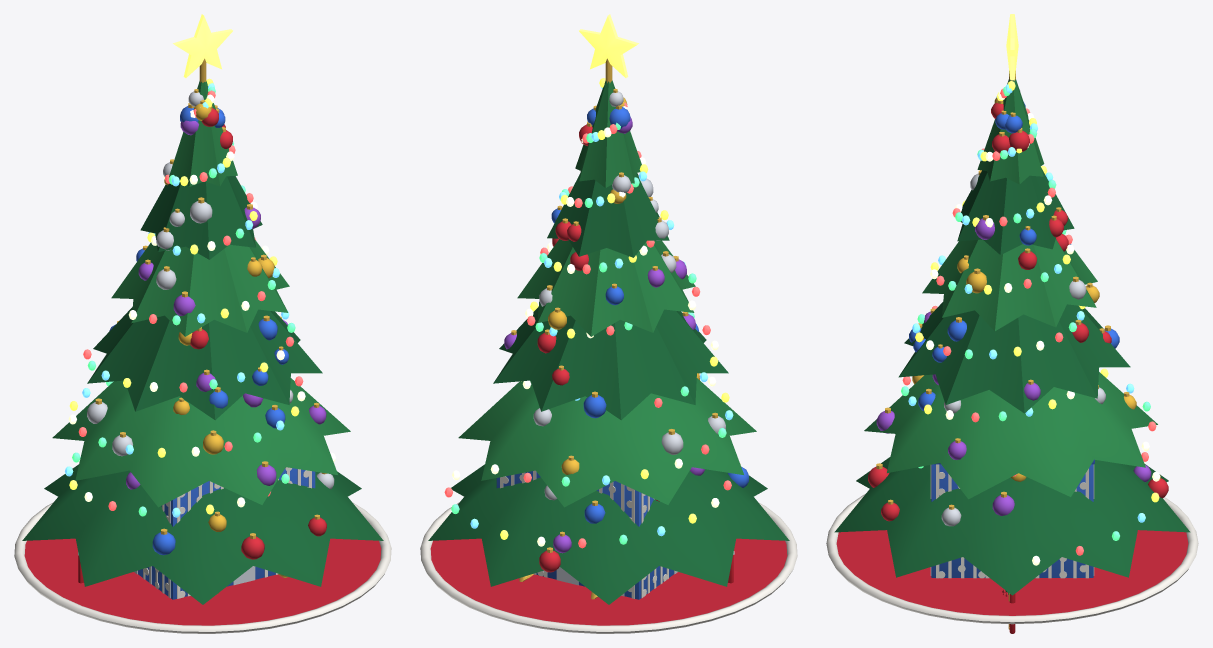
The model's file is xmas.glb.
The picture shows the model from 3 angles, left to right: view 1: azimuth 30°, elevation 25°; view 2: azimuth 150°, elevation 25°; view 3: azimuth 270°, elevation 25°; orthographic projection.
Parts seen in each view (by area): view 1: TreeBig, Gift3_Blue, Gift3_Green; view 2: TreeBig, Gift3_Blue, Gift3_Green; view 3: TreeBig, Gift3_Blue, Gift3_Green.
Part boxes in pixels (x1,y1,x2,y2): TreeBig: (14,14,391,633); Gift3_Blue: (134,467,315,599); Gift3_Green: (143,469,311,598); TreeBig: (420,14,797,633); Gift3_Blue: (496,471,677,599); Gift3_Green: (500,470,668,598); TreeBig: (826,14,1198,624); Gift3_Blue: (931,459,1094,578); Gift3_Green: (930,464,1094,578).
Size of the model in its own units: 6.58 by 11.07 by 6.58.
